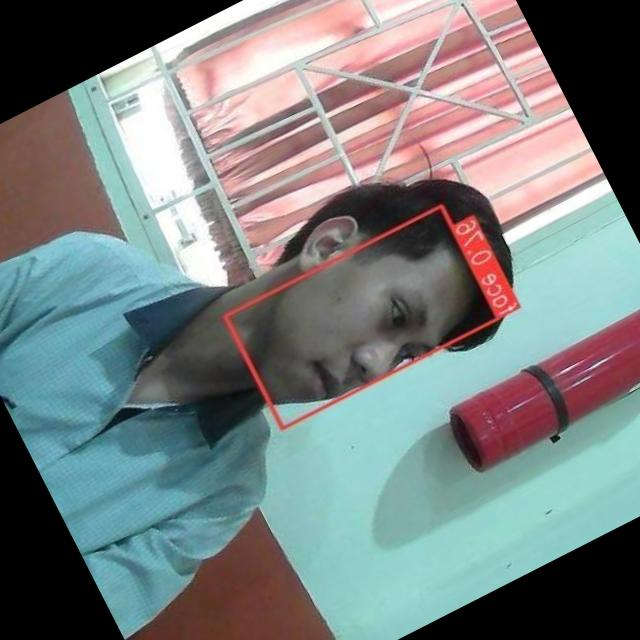bareface: (211, 180, 530, 448)
